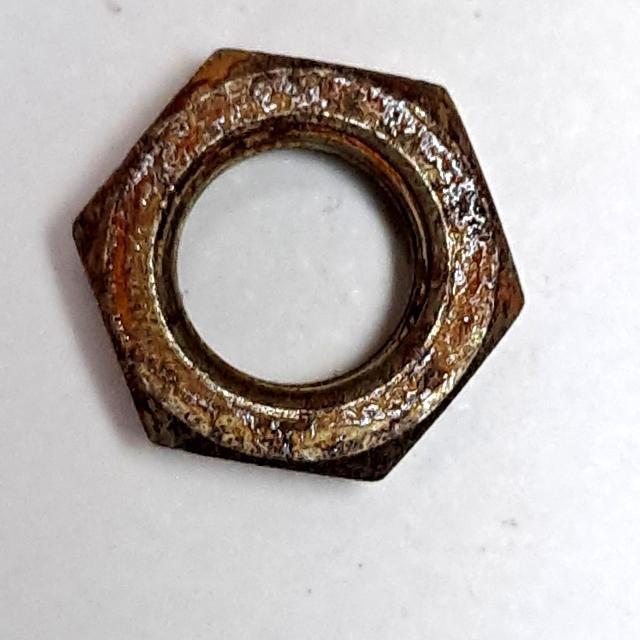Rust: (49, 34, 541, 506)
